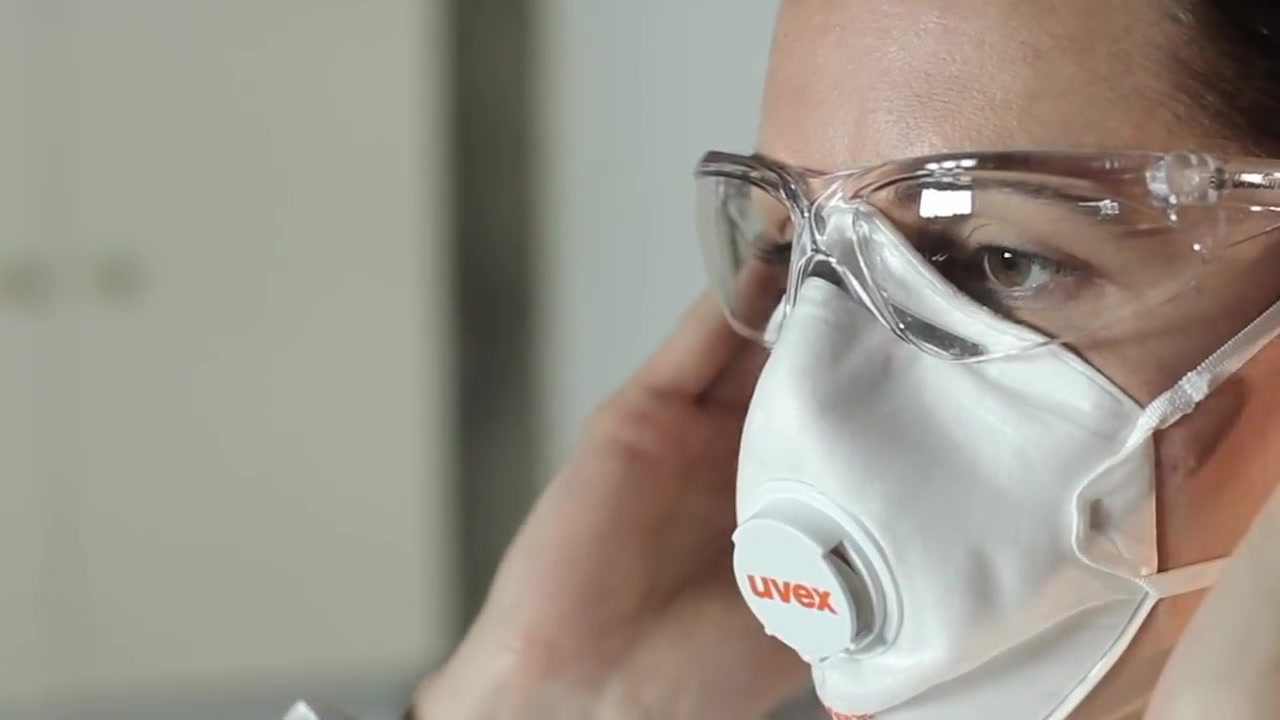Goggles: (620, 139, 1280, 342)
with_mask: (723, 243, 1170, 720)
